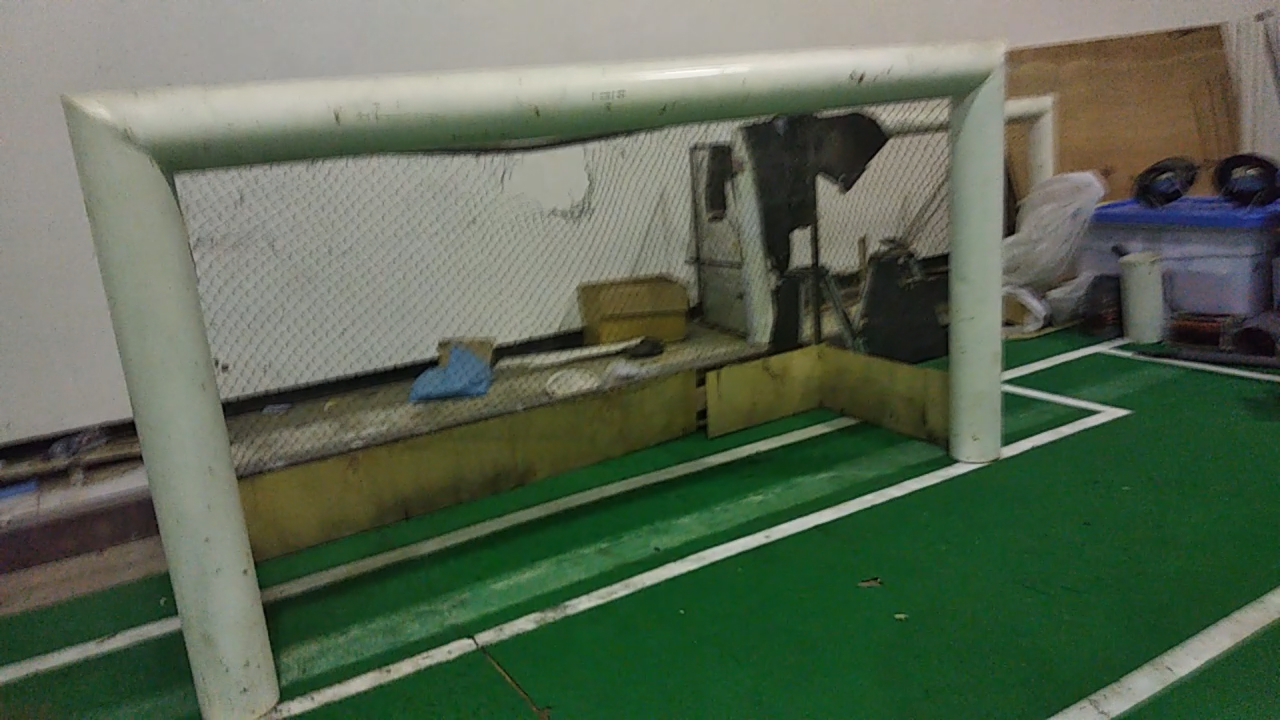gawang: (48, 29, 1016, 717)
